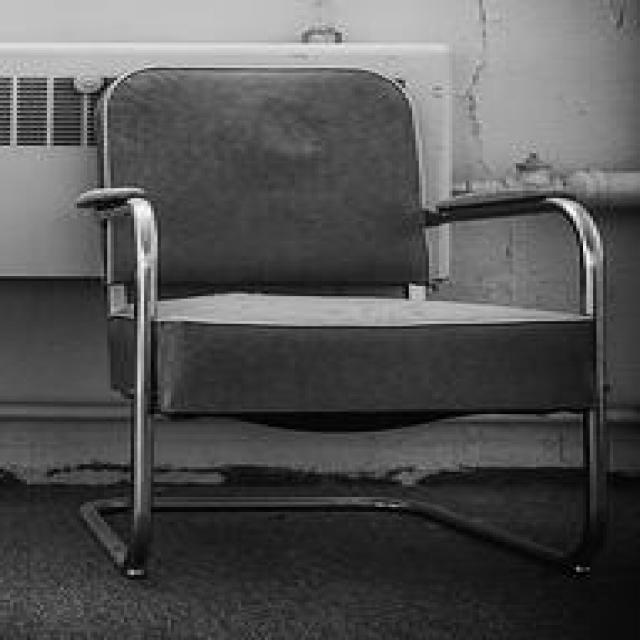chair: (75, 65, 610, 588)
